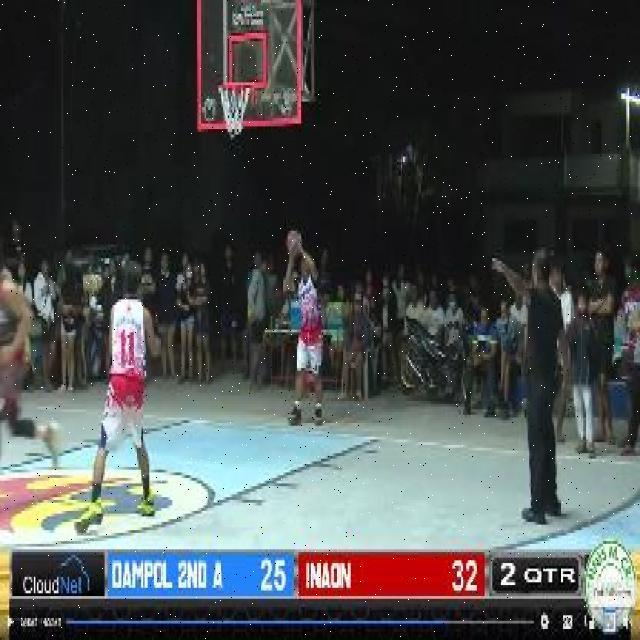ball: (286, 226, 305, 262)
hoop: (212, 83, 259, 95)
